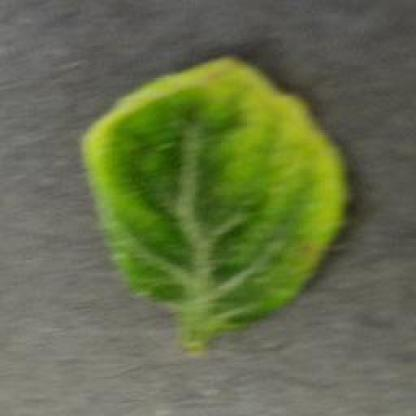bad leaf: (85, 55, 350, 266)
